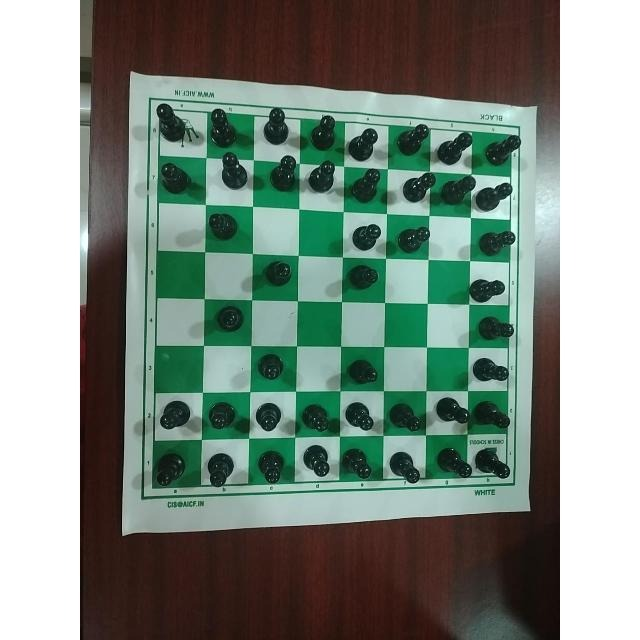black-pawn: (201, 99, 245, 149), (260, 104, 301, 152), (483, 124, 527, 168), (152, 157, 196, 201), (341, 395, 383, 441), (468, 348, 515, 389), (478, 217, 520, 262), (343, 113, 384, 159), (149, 99, 191, 143), (210, 149, 251, 194), (473, 441, 516, 483), (253, 346, 297, 387), (394, 118, 433, 164), (351, 160, 387, 209), (387, 394, 427, 438), (473, 396, 517, 436), (350, 215, 390, 258), (264, 151, 301, 197), (258, 251, 298, 293), (467, 264, 509, 304), (159, 395, 201, 435), (255, 444, 294, 487), (444, 165, 480, 211), (204, 447, 240, 493), (209, 208, 250, 248), (211, 300, 252, 340), (346, 348, 386, 389), (433, 394, 474, 434), (149, 448, 190, 488), (434, 438, 473, 480), (297, 394, 334, 438), (475, 312, 521, 347), (395, 213, 435, 253), (312, 108, 346, 154), (388, 448, 428, 487), (399, 164, 438, 203), (439, 123, 475, 165), (342, 258, 384, 294), (251, 398, 293, 434), (339, 442, 381, 478), (203, 395, 239, 434), (476, 174, 513, 211), (299, 444, 333, 483), (308, 155, 340, 196)
